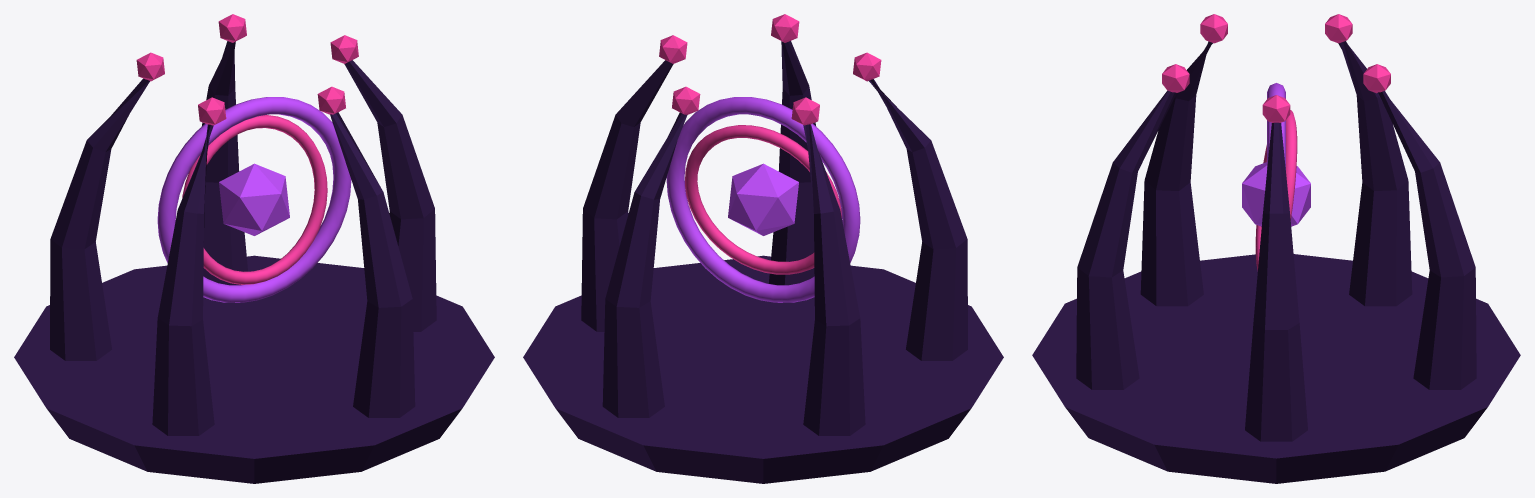
File: P_ChaosRift.fbx
3 views of the same model, side by side, from view 1: azimuth 30°, elevation 25°; view 2: azimuth 150°, elevation 25°; view 3: azimuth 270°, elevation 25° (orthographic).
Parts seen in each view (by area): view 1: P_ChaosRift__Rock, P_ChaosRift__Glow, P_ChaosRift__Pink; view 2: P_ChaosRift__Rock, P_ChaosRift__Glow, P_ChaosRift__Pink; view 3: P_ChaosRift__Rock, P_ChaosRift__Pink, P_ChaosRift__Glow.
Boxes of the visible parts, <box> form: P_ChaosRift__Rock: <box>14,41,494,483</box>; P_ChaosRift__Glow: <box>157,97,351,302</box>; P_ChaosRift__Pink: <box>136,14,358,284</box>; P_ChaosRift__Rock: <box>523,41,1003,483</box>; P_ChaosRift__Glow: <box>666,97,860,302</box>; P_ChaosRift__Pink: <box>659,14,881,274</box>; P_ChaosRift__Rock: <box>1032,41,1520,483</box>; P_ChaosRift__Pink: <box>1162,14,1390,270</box>; P_ChaosRift__Glow: <box>1242,83,1310,226</box>.
Bounding box in the file's own units: 18 × 13.9 × 18.
